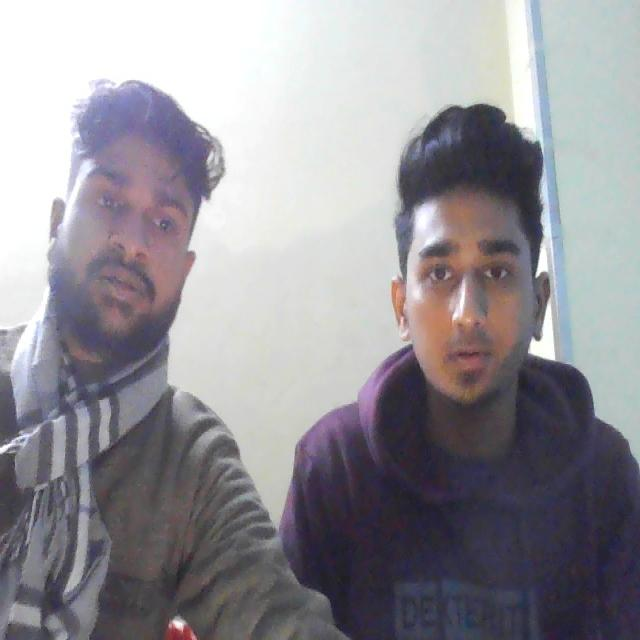real: (385, 115, 555, 436), (55, 86, 199, 358)
